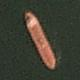ship: (2, 8, 4, 71)
